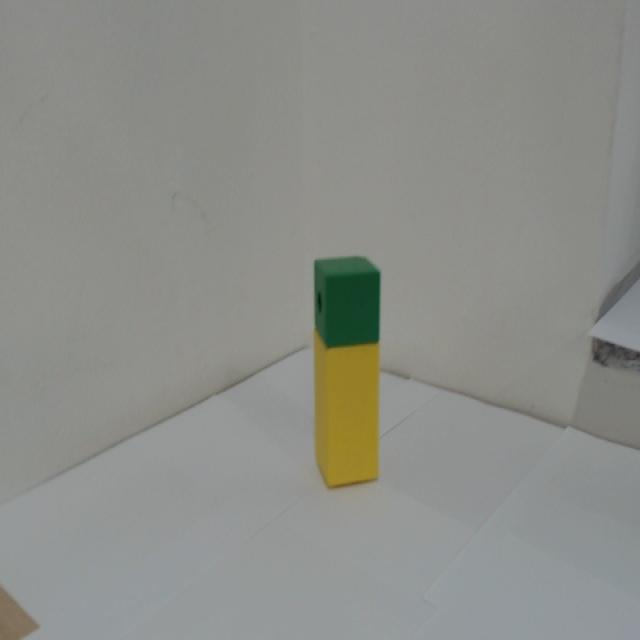cube: (311, 252, 382, 350)
